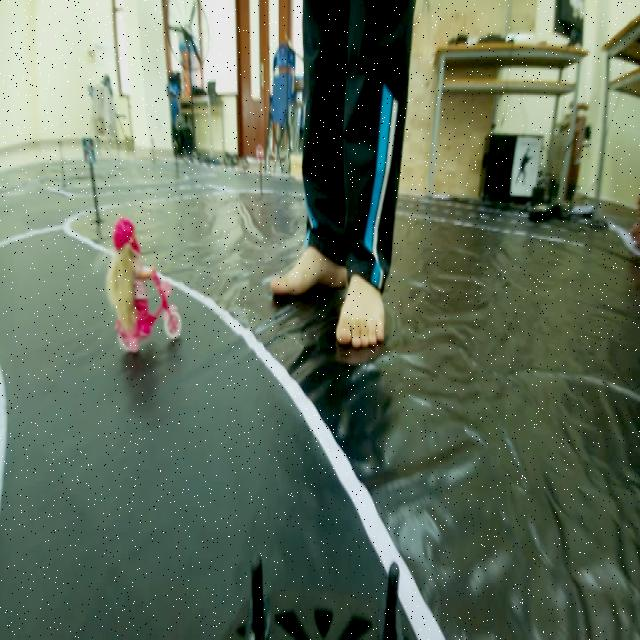pedestrian: (100, 216, 178, 364)
